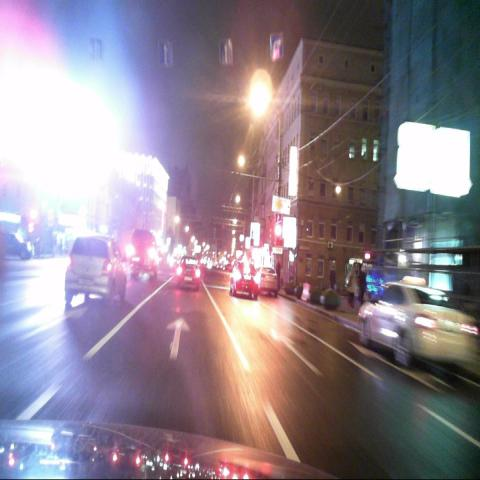2_1: (274, 198, 282, 212)
6_6: (274, 213, 282, 225)
